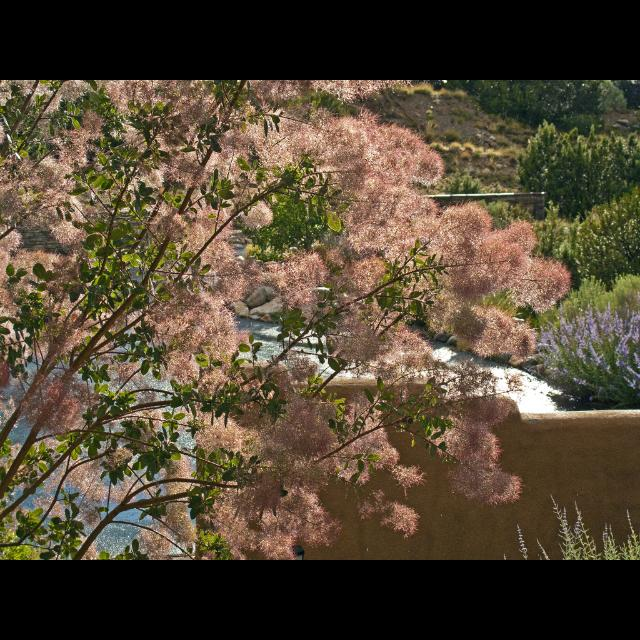Flower: (0, 80, 570, 560), (529, 300, 639, 398), (380, 495, 422, 551)
